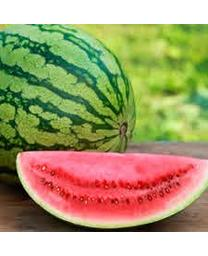watermelon: (1, 24, 135, 177), (16, 151, 206, 230)
